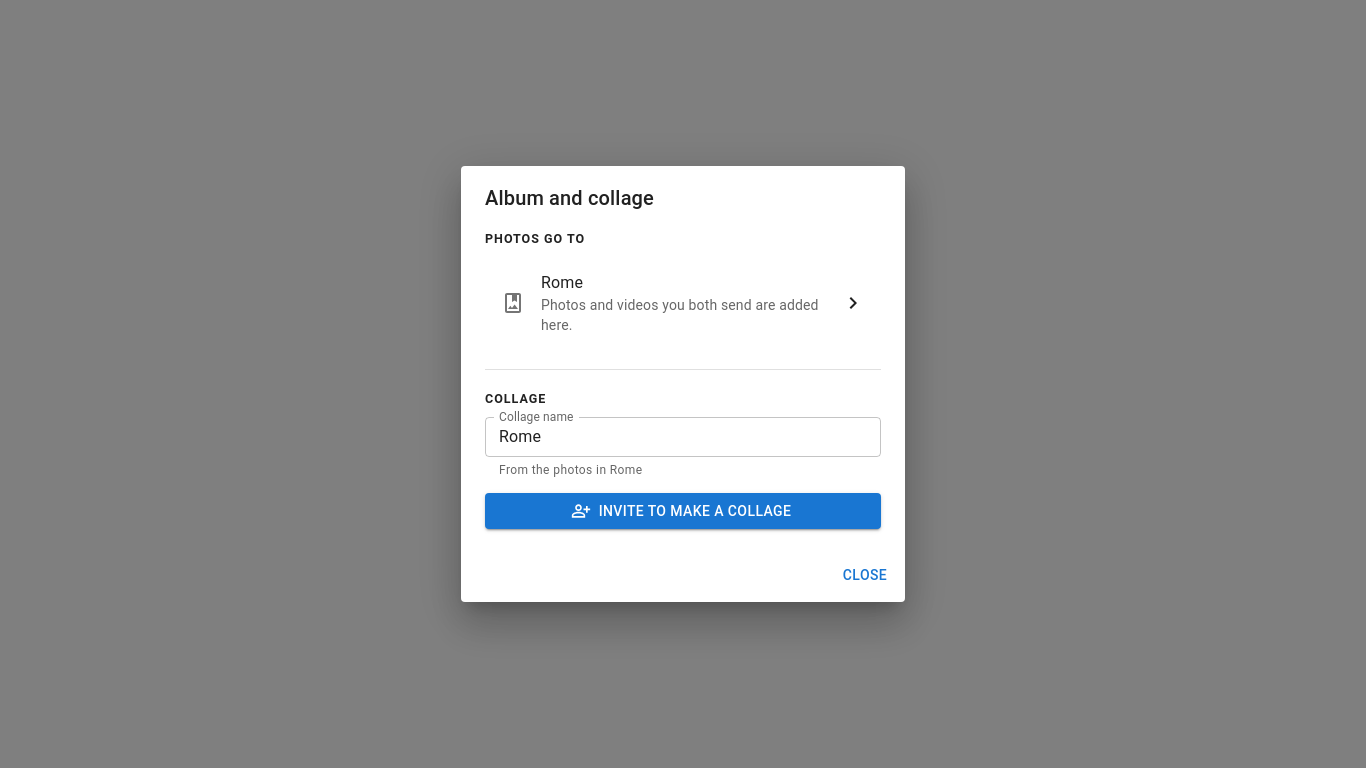
Test: AlbumCollageDialog › keeps a name the person typed when the album changes
This screenshot has width=1366, height=768.
Replace the text in the field labelled "Collage name" with "Our summer" at (683, 437), box [485,417,881,457]
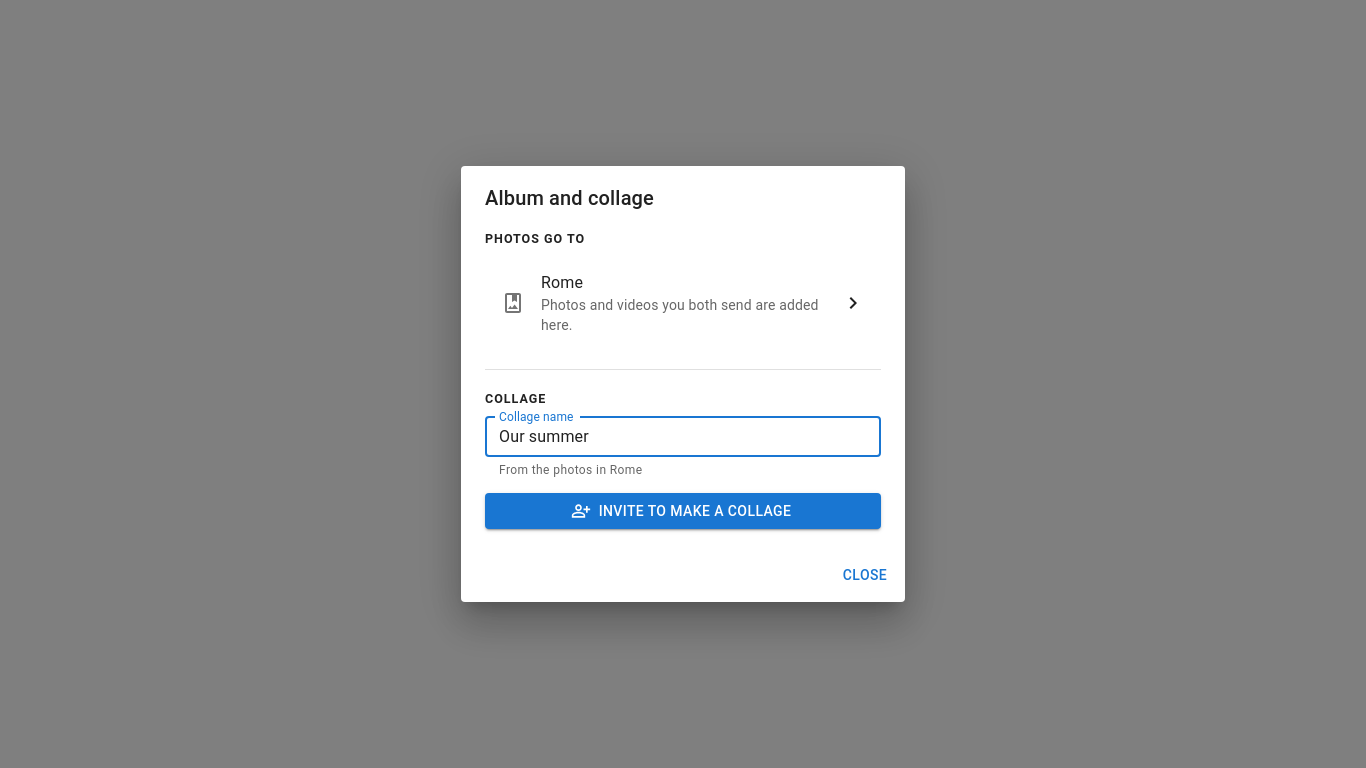
Click the button "Rome Photos and videos you both send are added here.".
click(683, 303)  # box [485,257,881,349]
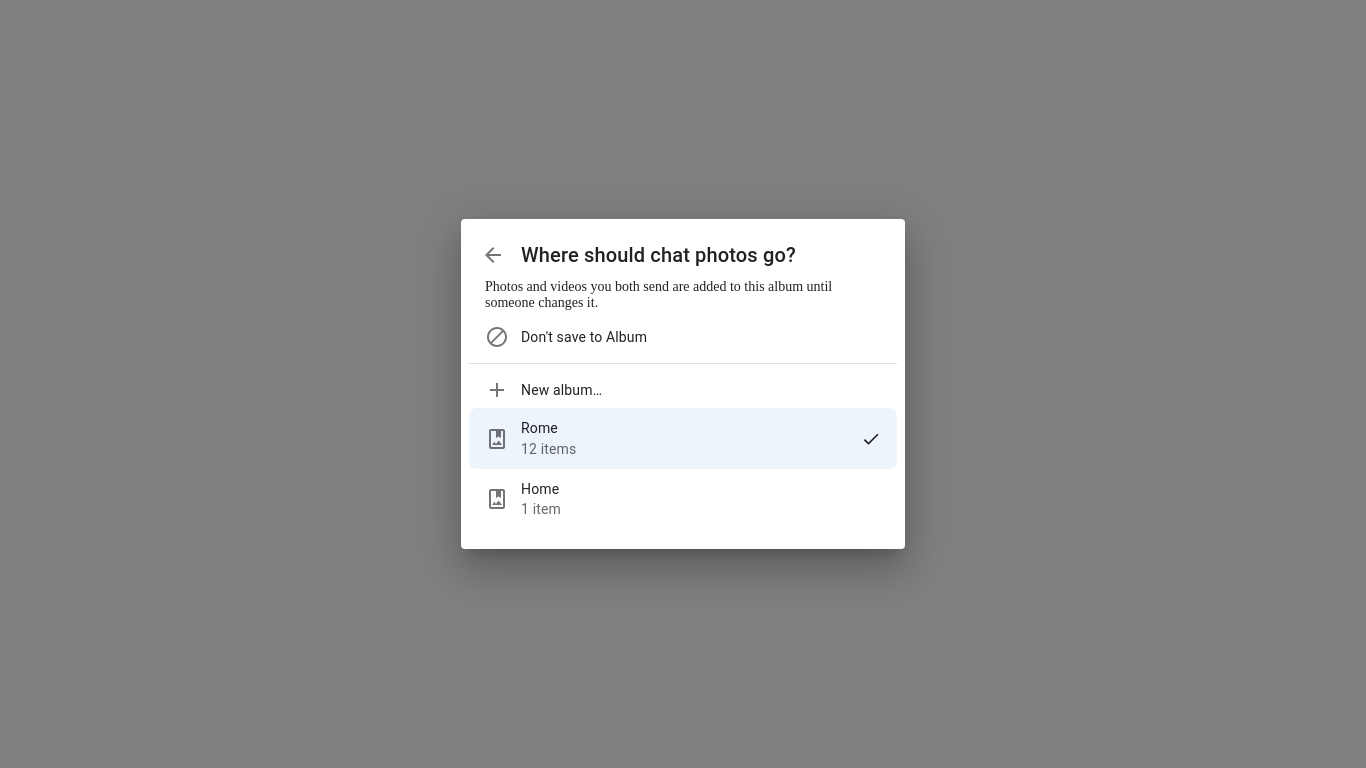
Click the text "Home".
click(540, 488)  # box [521,480,559,496]
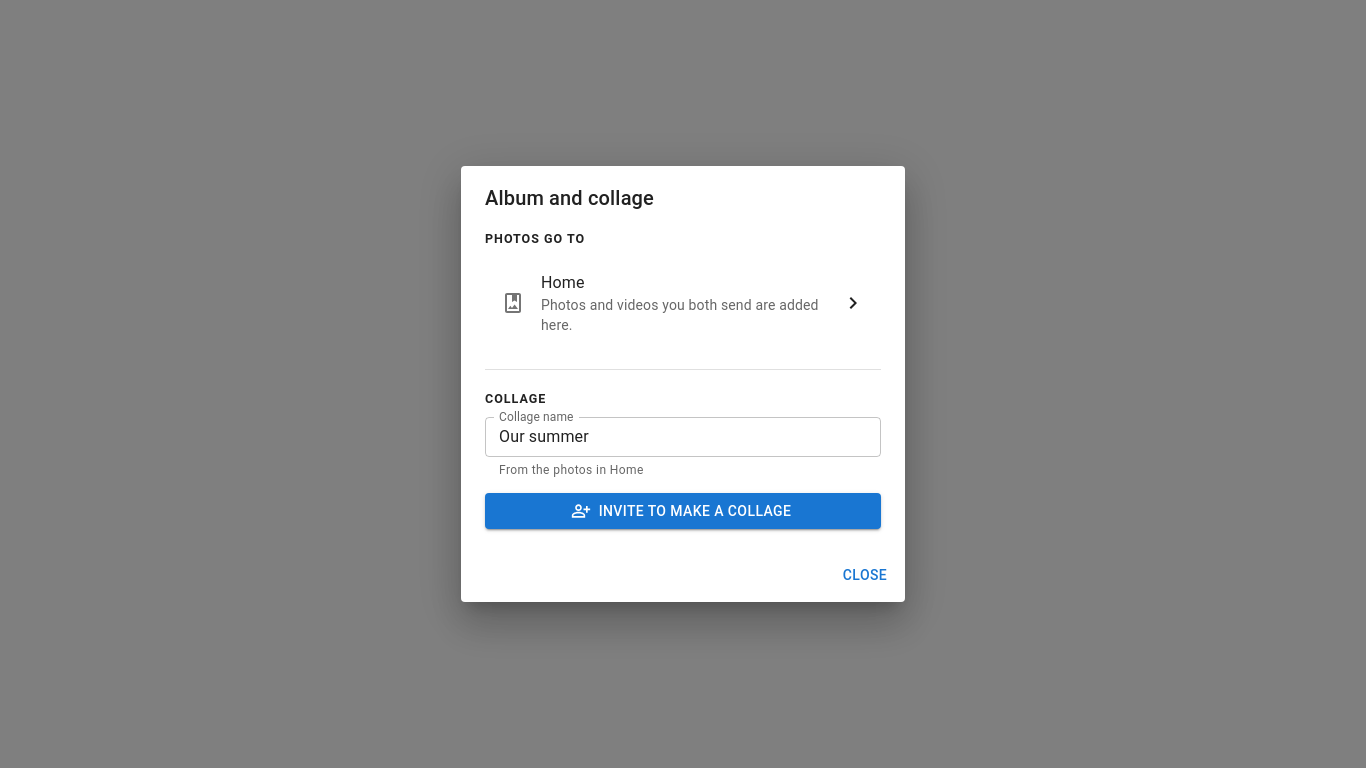
Now the text "From the photos in Home" is shown, box [499,463,644,477]
Now the field labelled "Collage name" holds "Our summer", box [485,417,881,457]
